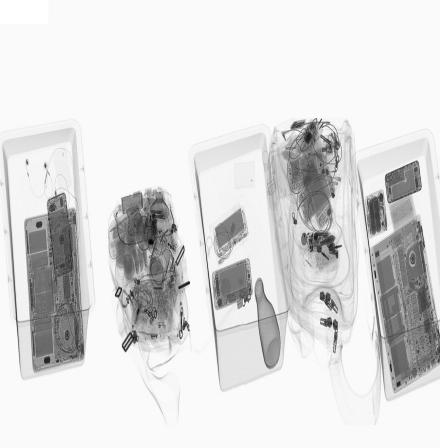Powerbank: (365, 186, 389, 240)
